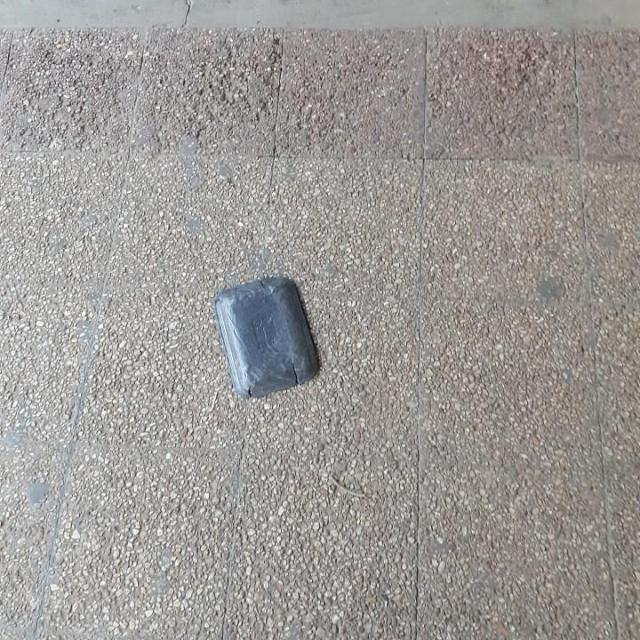litter: (214, 279, 319, 397)
